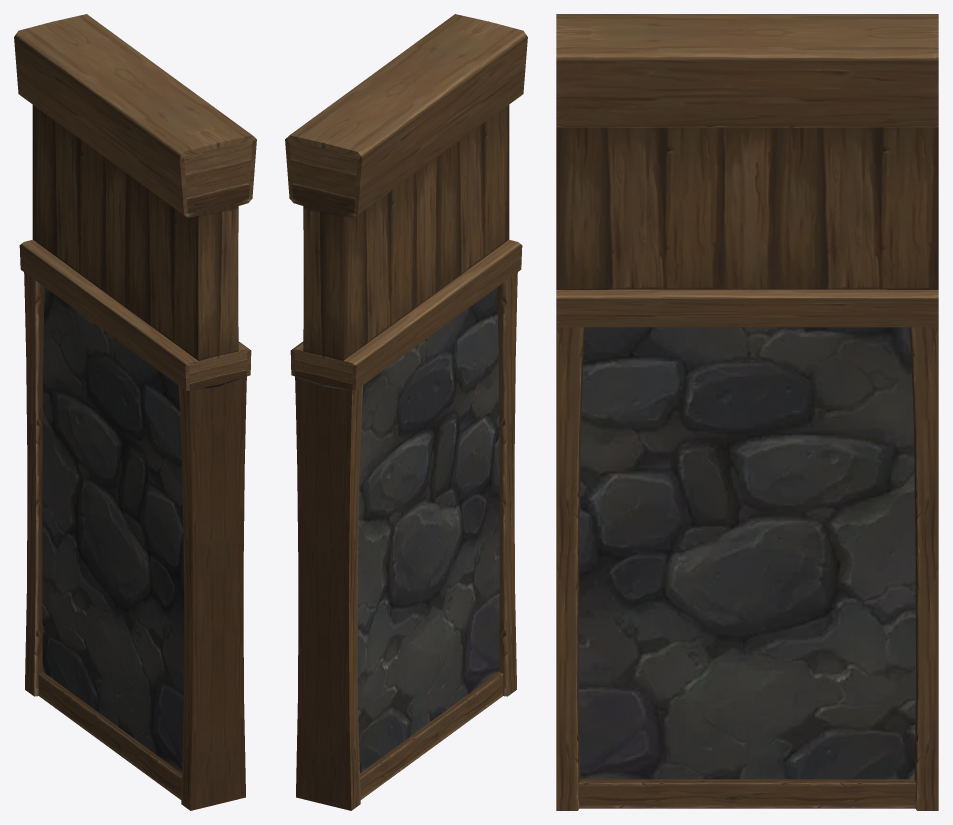
The picture shows the model from 3 angles, left to right: view 1: azimuth 30°, elevation 25°; view 2: azimuth 150°, elevation 25°; view 3: azimuth 270°, elevation 25°; orthographic projection. The views are drawn at different scales.
Bounding box in the file's own units: 1.35 × 11.01 × 5.
5 materials, 5 textured.
